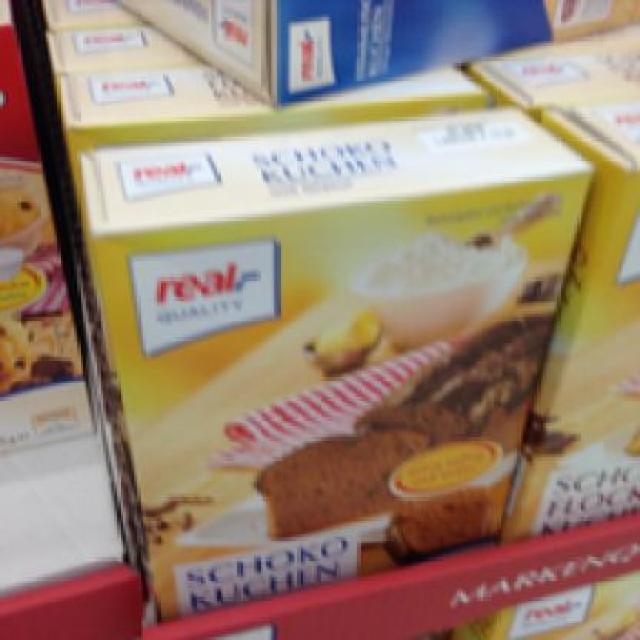Cake: (75, 97, 594, 617)
